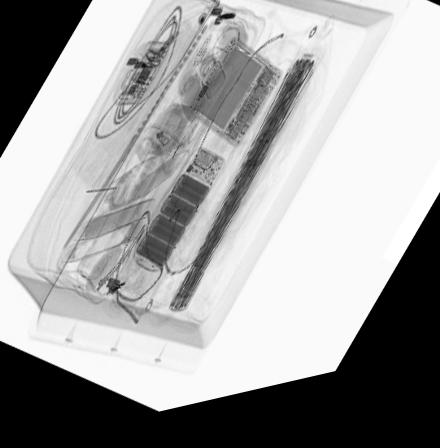Powerbank: (129, 154, 227, 280), (186, 47, 284, 161)
